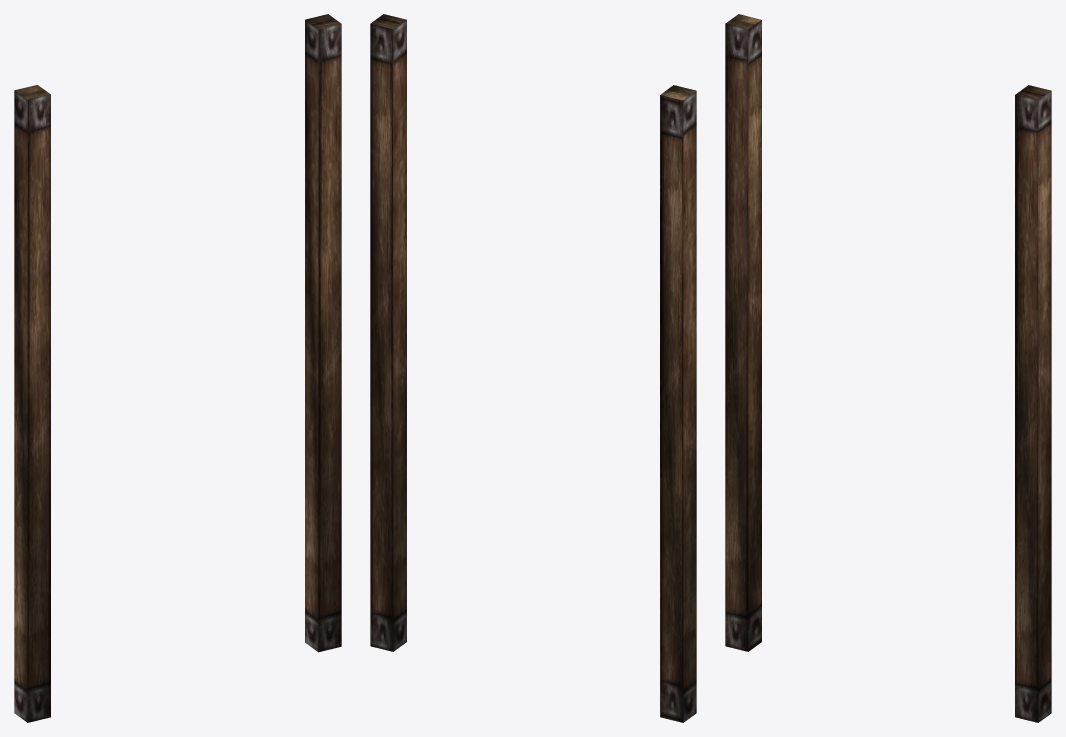
File: EVT_OC_MAINGATE02_01.glb
The picture shows the model from 3 angles, left to right: view 1: azimuth 30°, elevation 25°; view 2: azimuth 150°, elevation 25°; view 3: azimuth 330°, elevation 25°; orthographic projection.
Parts seen in each view (by area): view 1: Mesh; view 2: Mesh; view 3: Mesh.
Boxes of the visible parts, x1,y1,x2,y2 form: Mesh: [14, 14, 341, 722]; Mesh: [370, 14, 696, 722]; Mesh: [725, 14, 1051, 722].
Size of the model in its own units: 4.01 by 7.6 by 0.304.
1 material, 1 textured.
